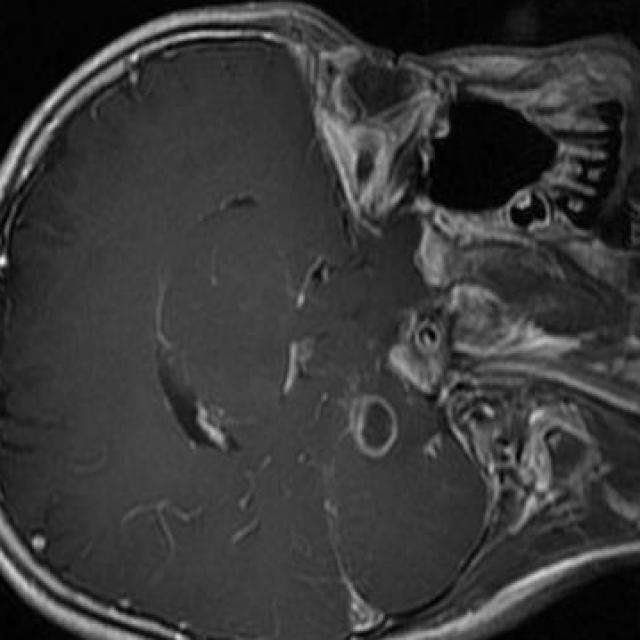glioma: (349, 394, 399, 462)
